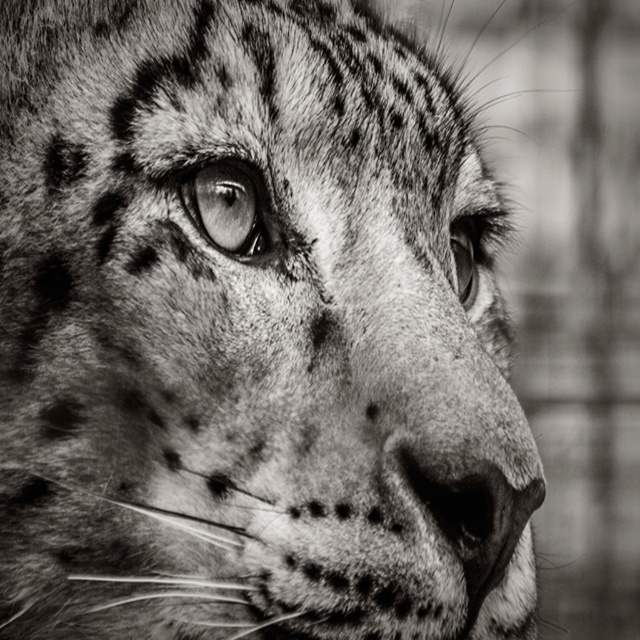Leopard: (0, 0, 578, 639)
